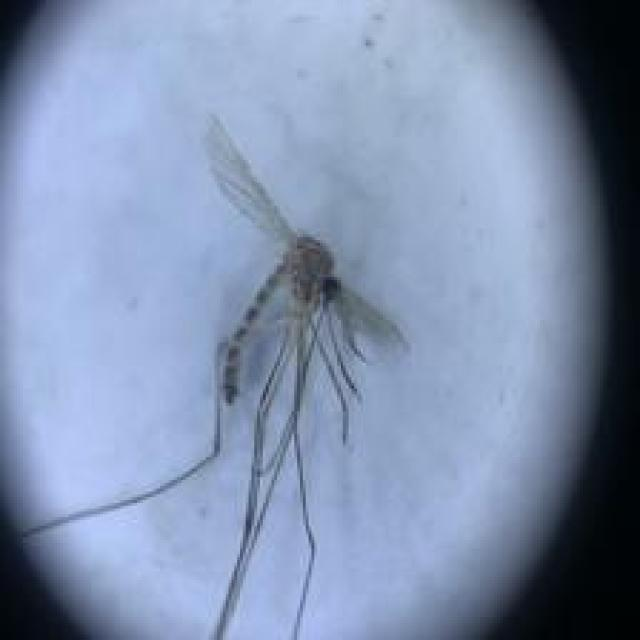Culex: (18, 111, 413, 640)
